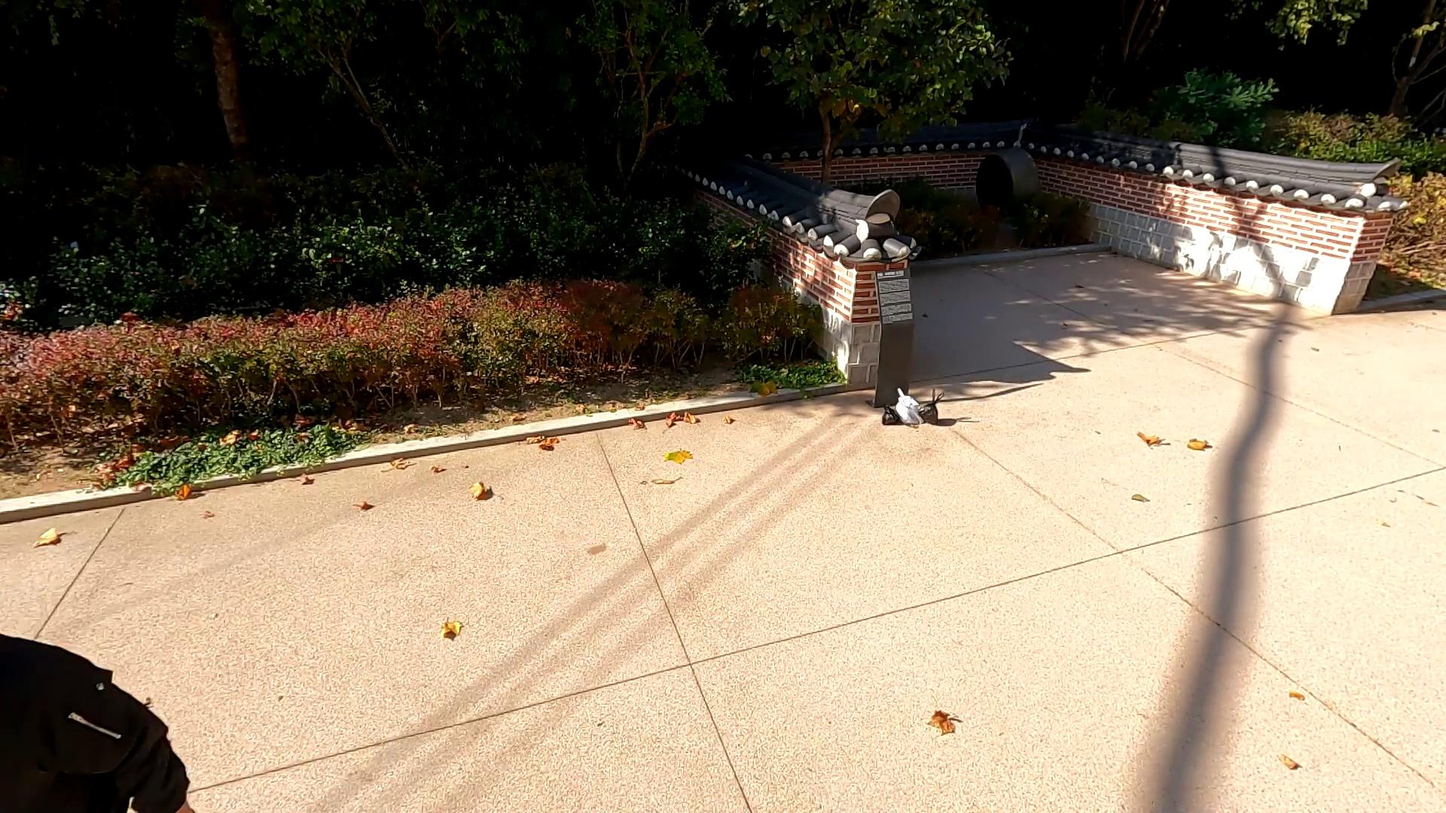trash: (891, 387, 920, 426), (916, 389, 944, 425), (880, 406, 903, 427)
